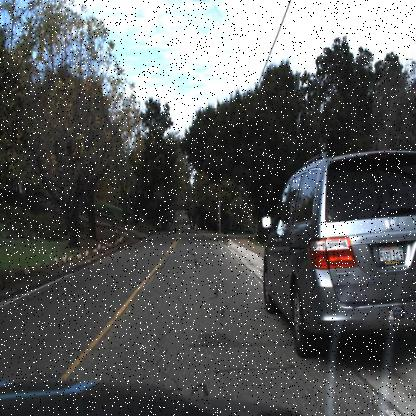car: (262, 150, 416, 359)
